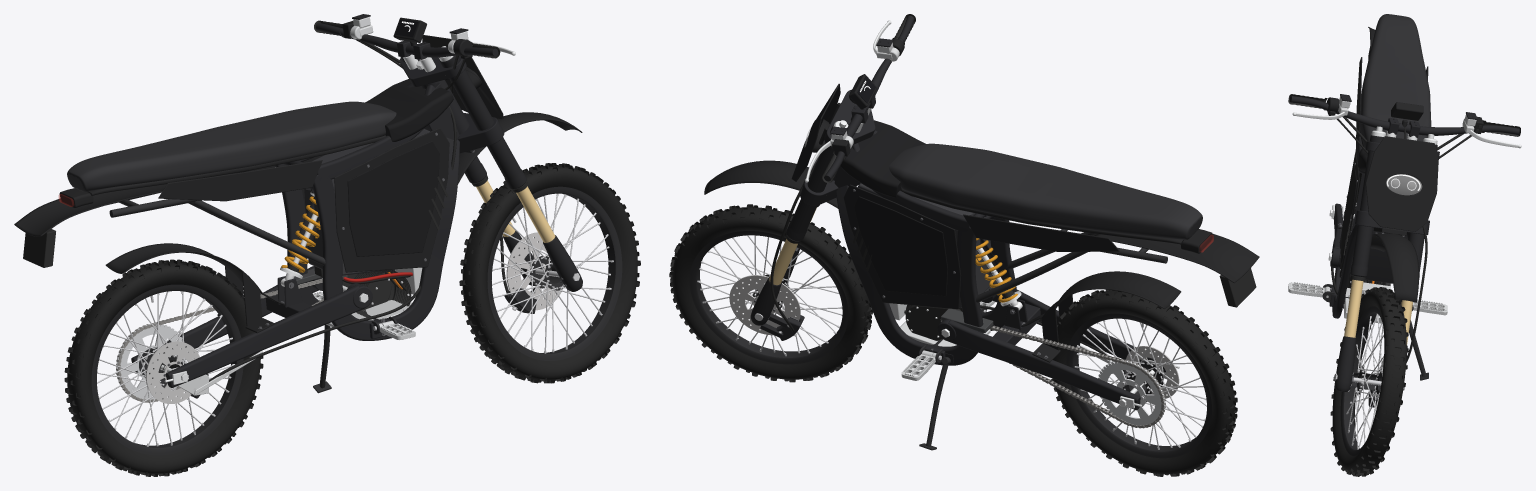
File: surron-light-bee-x.glb
The picture shows the model from 3 angles, left to right: view 1: azimuth 30°, elevation 25°; view 2: azimuth 150°, elevation 25°; view 3: azimuth 270°, elevation 25°; orthographic projection. The views are drawn at different scales.
Parts seen in each view (by area): view 1: Seat, Tire_R, Tire_F, Frame_Main, SidePanel_Inner_R, Swingarm_Arms, SidePanel_R, Rim_F, Rim_R, RearCover_R, Spokes_F, Spokes_R (+25 smaller); view 2: Seat, Tire_F, Tire_R, Frame_Main, SidePanel_Inner_L, Swingarm_Arms, Rim_F, SidePanel_L, Rim_R, TankCover, RearCover_L, RearFender (+21 smaller); view 3: Seat, Tire_F, HeadlightShroud, FrontFender, Spokes_F, Rim_F, Handlebar, Fork_Upper_R, Frame_Main, Battery_Pack, Fork_Lug_R, Fork_Stanchion_R (+15 smaller).
Part boxes in pixels (left/top/right/bottom): Seat: left=67, top=101, right=396, bottom=191; Tire_R: left=64, top=259, right=263, bottom=476; Tire_F: left=459, top=163, right=640, bottom=383; Frame_Main: left=275, top=82, right=459, bottom=340; SidePanel_Inner_R: left=347, top=141, right=439, bottom=256; Swingarm_Arms: left=131, top=266, right=372, bottom=387; SidePanel_R: left=334, top=127, right=449, bottom=272; Rim_F: left=487, top=186, right=622, bottom=360; Rim_R: left=91, top=284, right=243, bottom=455; RearCover_R: left=158, top=160, right=322, bottom=201; Spokes_F: left=492, top=194, right=612, bottom=352; Spokes_R: left=97, top=291, right=233, bottom=446; Seat: left=889, top=143, right=1202, bottom=239; Tire_F: left=669, top=204, right=873, bottom=382; Tire_R: left=1050, top=289, right=1237, bottom=476; Frame_Main: left=834, top=130, right=1016, bottom=365; SidePanel_Inner_L: left=854, top=196, right=947, bottom=296; Swingarm_Arms: left=937, top=280, right=1170, bottom=410; Rim_F: left=689, top=231, right=848, bottom=364; SidePanel_L: left=843, top=184, right=961, bottom=309; Rim_R: left=1066, top=313, right=1211, bottom=458; TankCover: left=840, top=120, right=925, bottom=197; RearCover_L: left=963, top=214, right=1119, bottom=251; RearFender: left=1094, top=234, right=1259, bottom=282; Seat: left=1359, top=14, right=1431, bottom=147; Tire_F: left=1330, top=287, right=1408, bottom=476; HeadlightShroud: left=1365, top=136, right=1438, bottom=231; FrontFender: left=1370, top=232, right=1419, bottom=302; Spokes_F: left=1346, top=315, right=1383, bottom=448; Rim_F: left=1340, top=306, right=1382, bottom=455; Handlebar: left=1289, top=96, right=1519, bottom=135; Fork_Upper_R: left=1350, top=135, right=1383, bottom=277; Frame_Main: left=1329, top=136, right=1408, bottom=318; Battery_Pack: left=1350, top=174, right=1407, bottom=283; Fork_Lug_R: left=1335, top=336, right=1355, bottom=391; Fork_Stanchion_R: left=1344, top=279, right=1363, bottom=337.
Size of the model in its own units: 1.97 by 1.19 by 0.7598.
